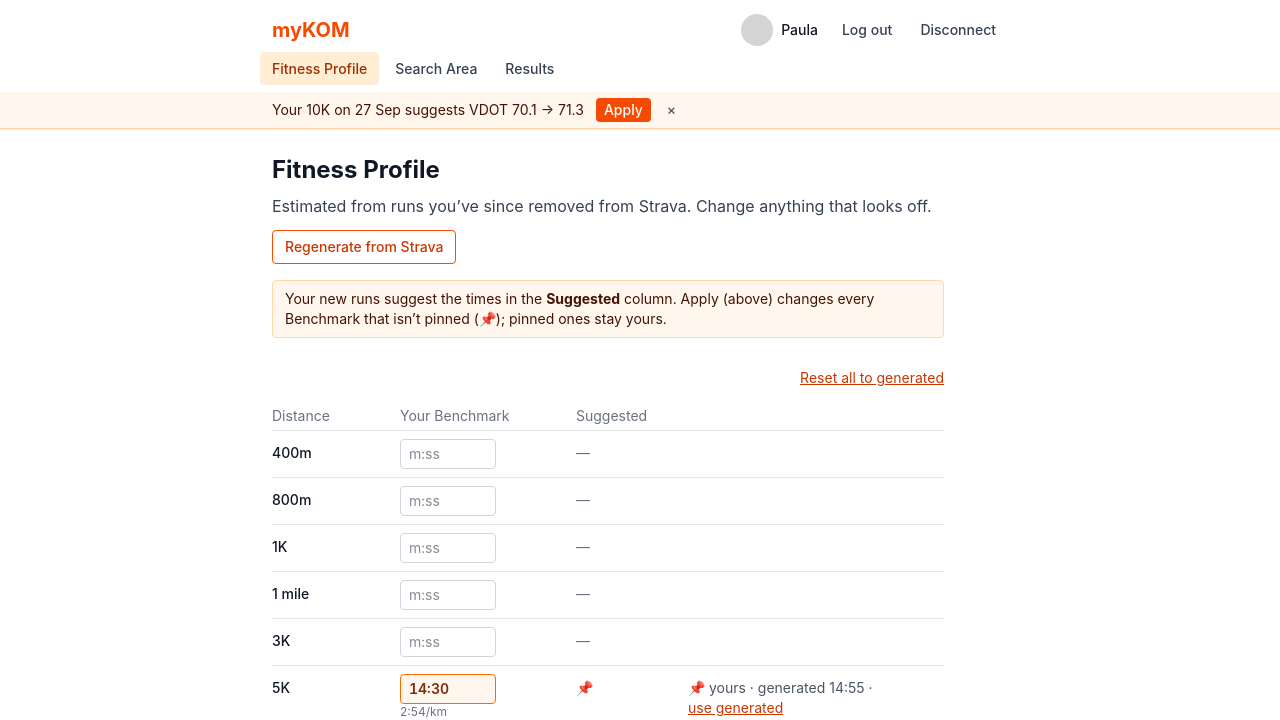
Test case: the suggestion banner › applied on the Fitness Profile page, updates the table there
Click the button "Apply" at (623, 110), box [596,98,651,122]
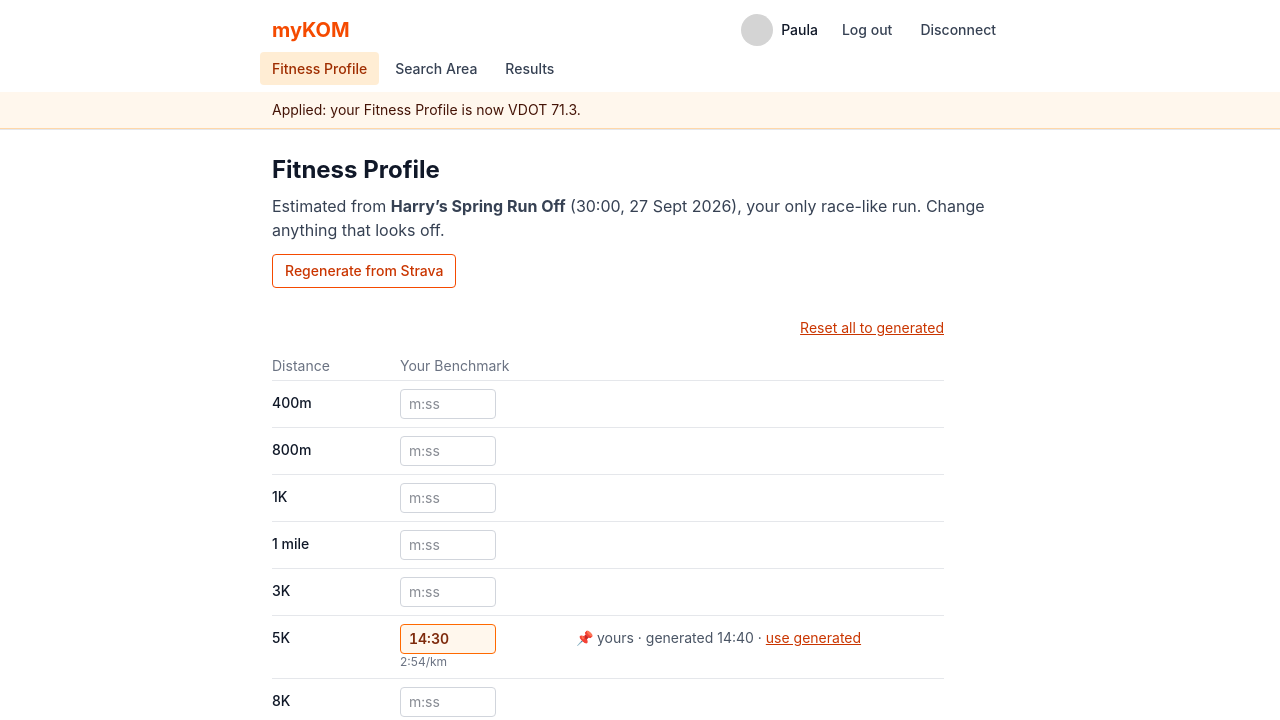
Check: the field labelled "5K" holds "14:30", box [400,624,496,654]
Check: the text "Suggested" is gone
